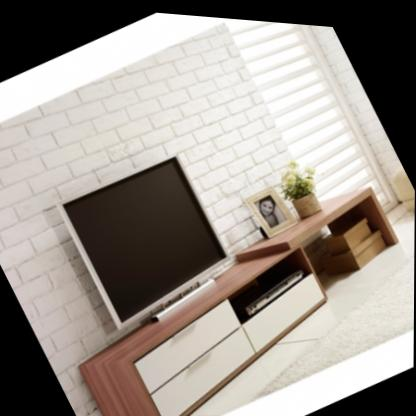Ceramic floor: (193, 204, 415, 413)
TV stand: (80, 182, 403, 416)
